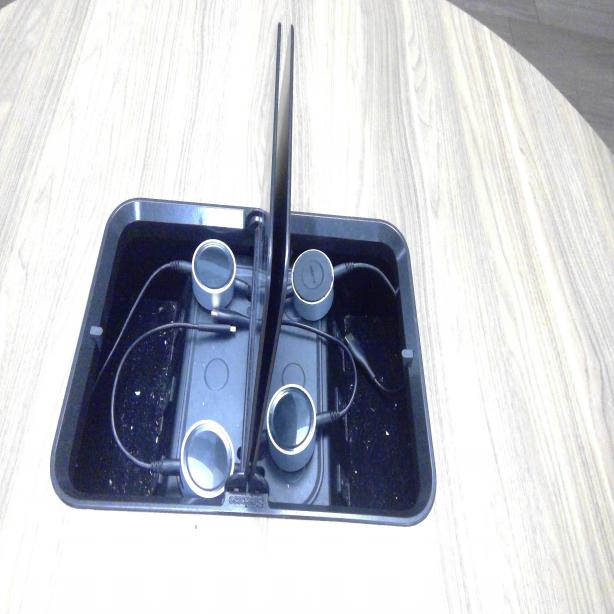typeb: (338, 465, 352, 500)
